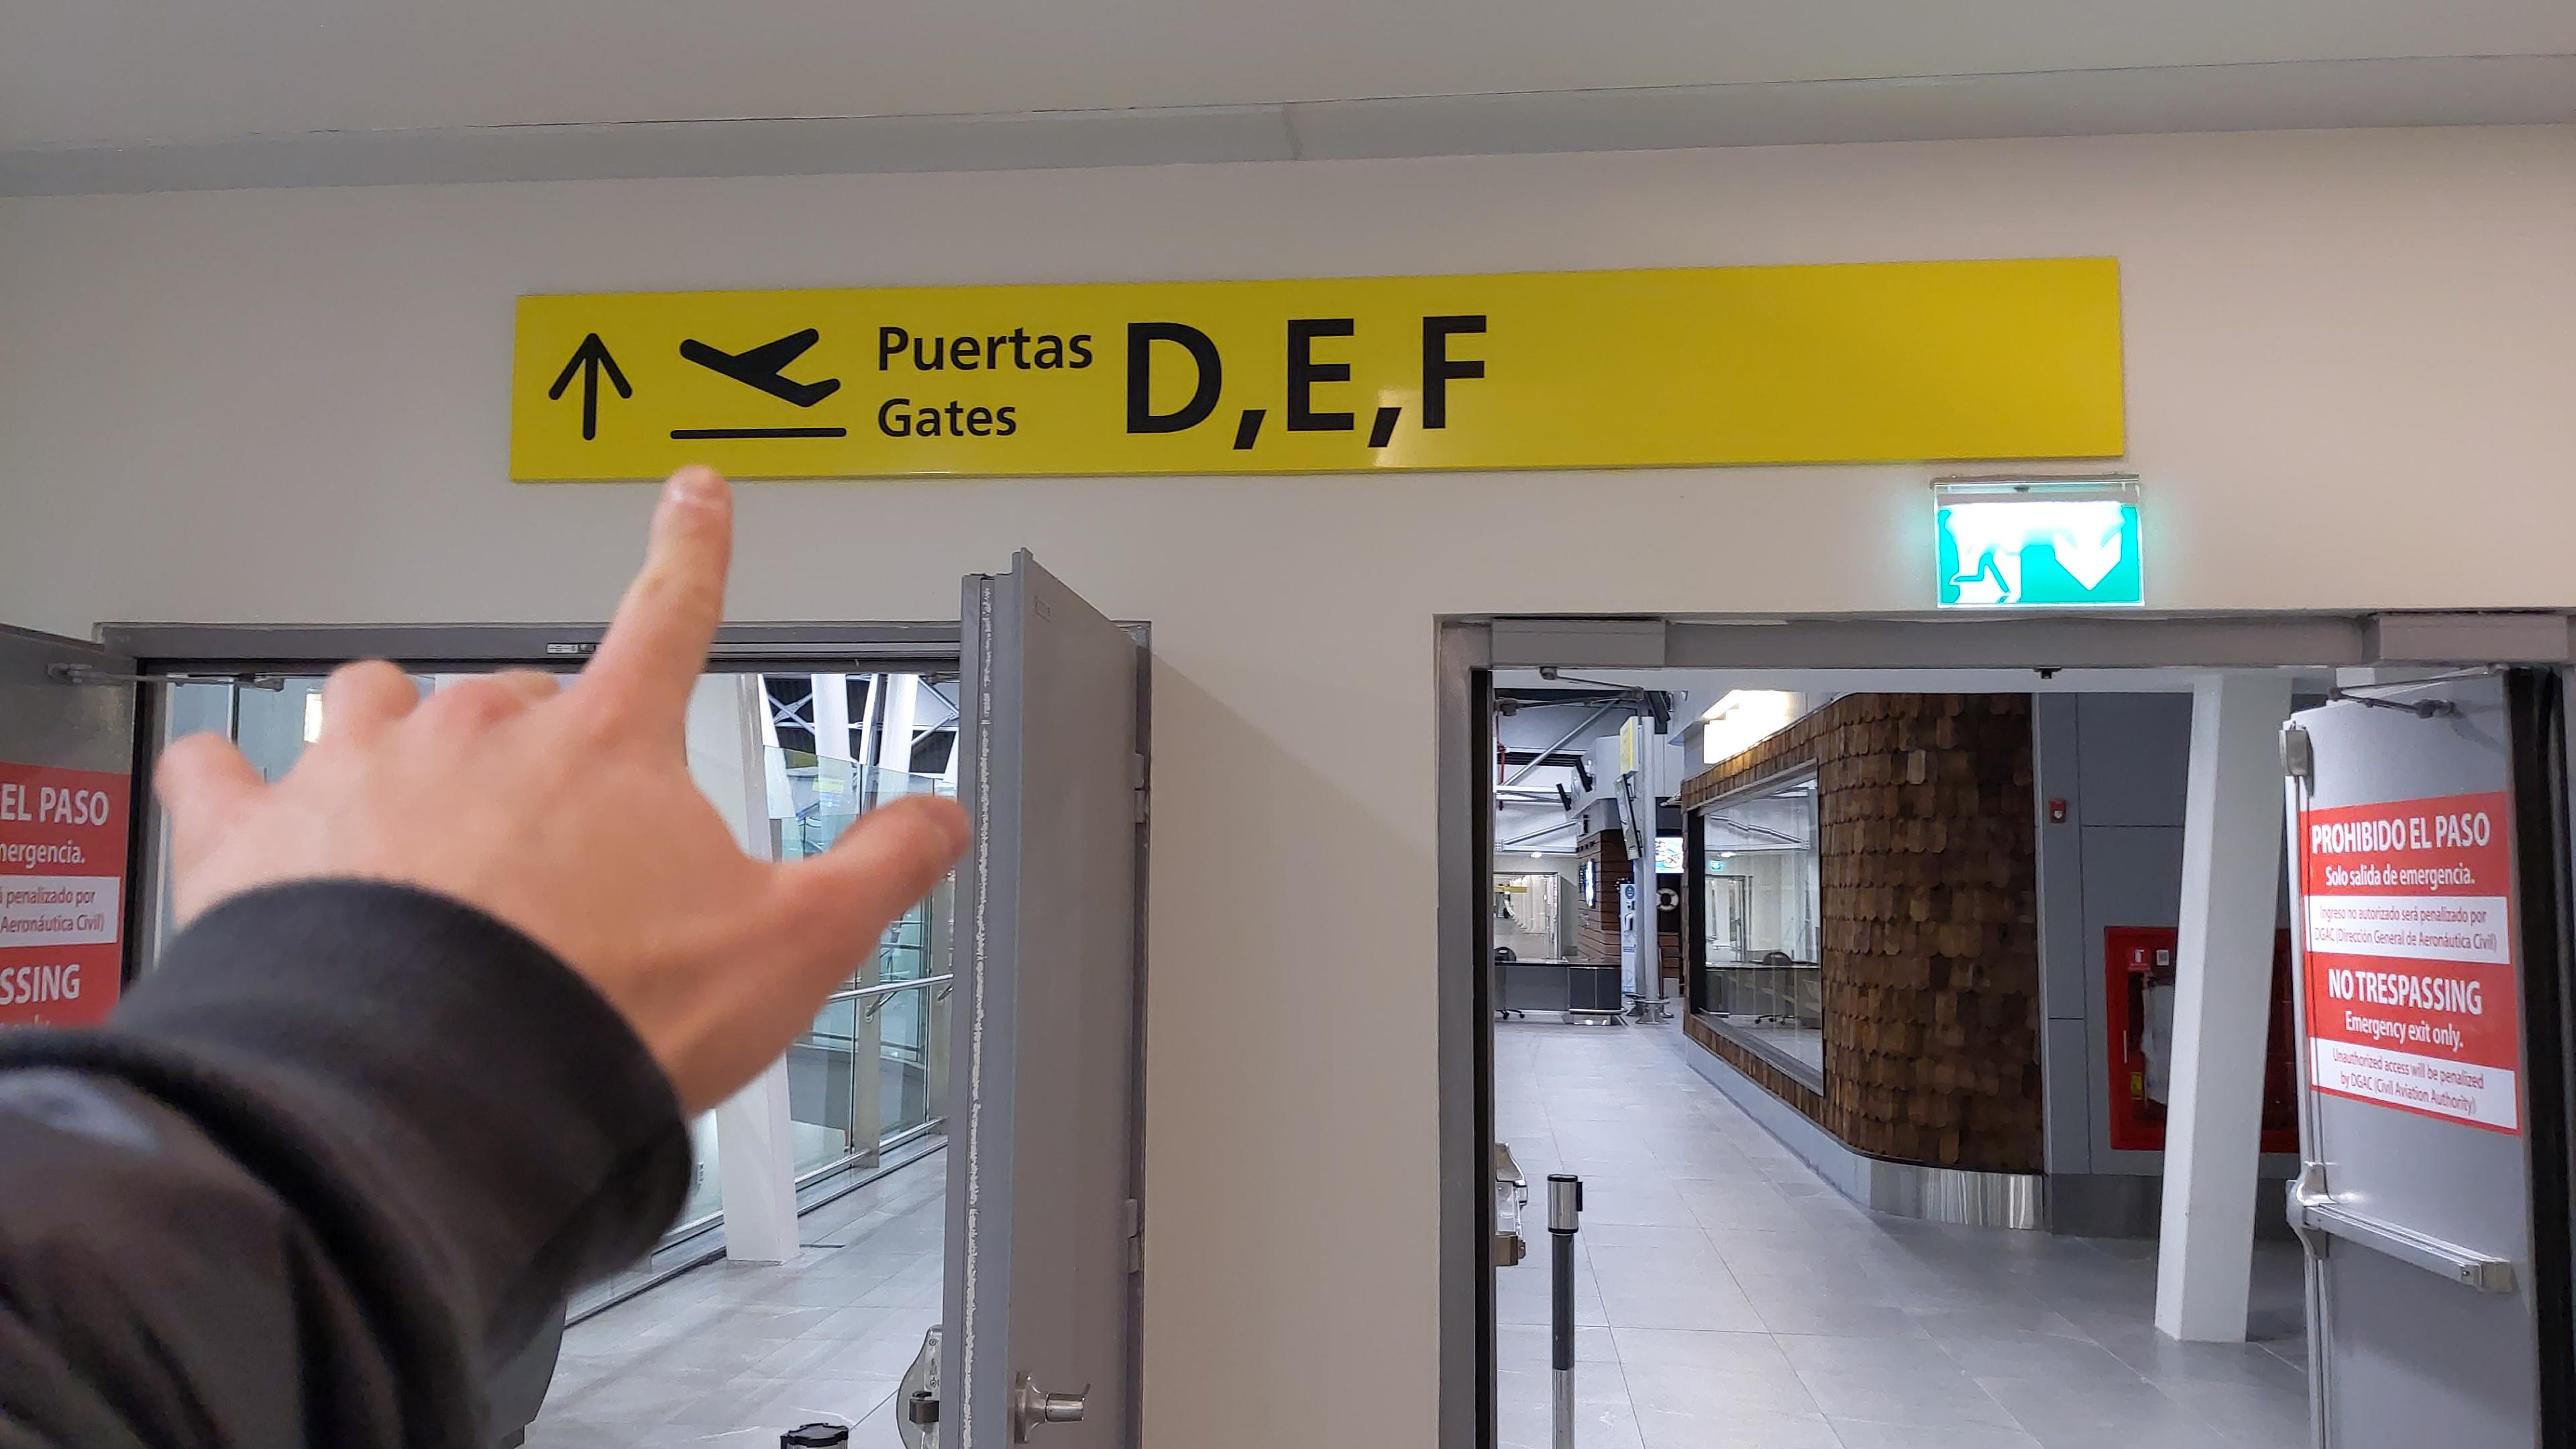airplane symbol: (669, 318, 842, 414)
emergency down arrow: (2051, 515, 2125, 593)
emergency exit: (1946, 513, 2029, 610)
no trespassing: (2293, 786, 2521, 1138), (0, 757, 127, 1039)
thin up arrow: (543, 324, 639, 446)
